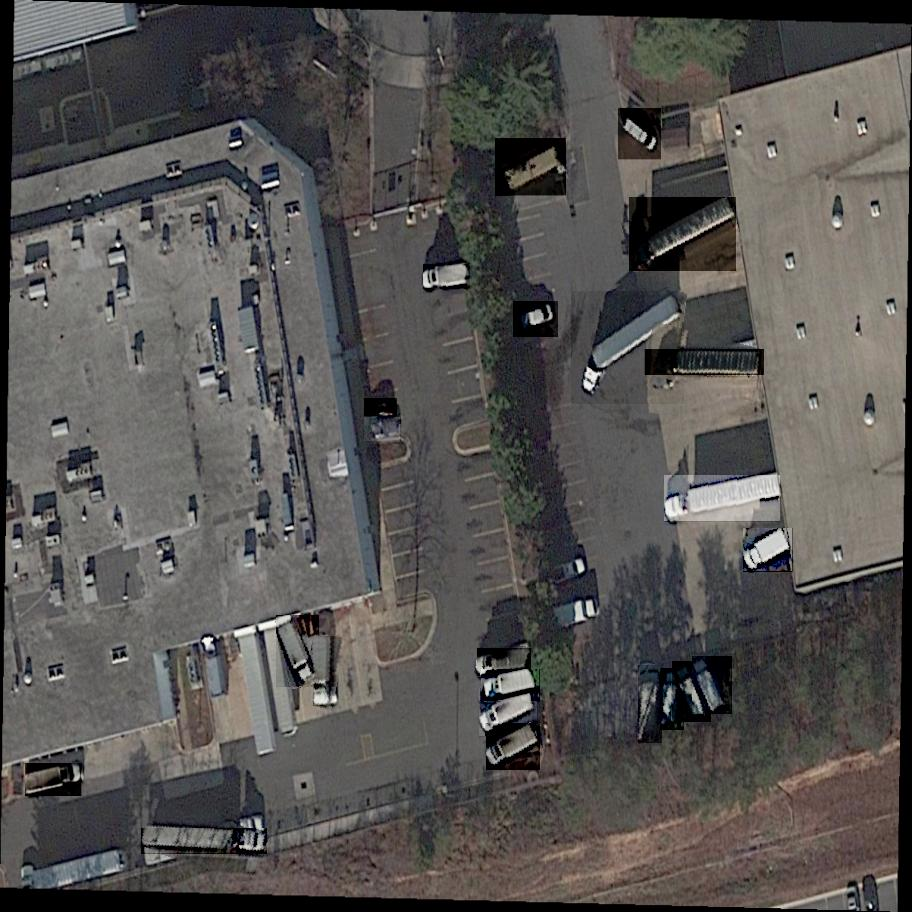large-vehicle: (565, 291, 696, 404), (627, 197, 737, 271), (664, 476, 784, 523), (495, 138, 570, 196), (141, 828, 267, 854), (610, 109, 668, 162), (478, 689, 540, 738), (645, 350, 764, 375), (485, 724, 544, 770), (741, 529, 795, 573), (481, 669, 541, 705), (23, 764, 85, 797), (638, 665, 662, 745), (475, 648, 534, 676), (314, 636, 333, 706), (423, 264, 471, 289)
small-vehicle: (275, 616, 323, 688), (672, 661, 714, 722), (691, 655, 734, 714), (513, 301, 558, 338), (661, 668, 685, 730), (365, 417, 403, 442), (364, 399, 397, 417)
